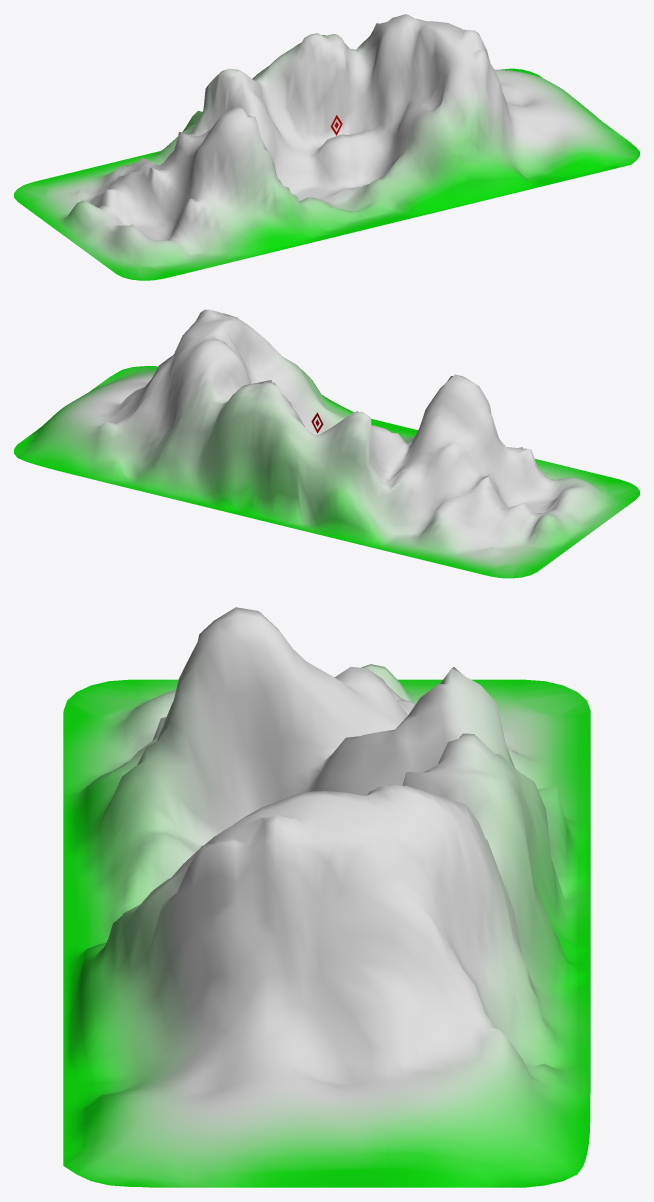
Rendered from Prop_HologramMap1.gltf.
3 renders of one model, top to bottom at view 1: azimuth 30°, elevation 25°; view 2: azimuth 150°, elevation 25°; view 3: azimuth 270°, elevation 25°, orthographic. The views are drawn at different scales.
Visible parts, largest first — view 1: Prop_HologramMap1; view 2: Prop_HologramMap1; view 3: Prop_HologramMap1.
Boxes of the visible parts, left/top/right/bottom form: Prop_HologramMap1: left=14, top=14, right=639, bottom=280; Prop_HologramMap1: left=14, top=309, right=639, bottom=578; Prop_HologramMap1: left=63, top=607, right=590, bottom=1187.
Size of the model in its own units: 3.6 by 0.8079 by 1.58.
